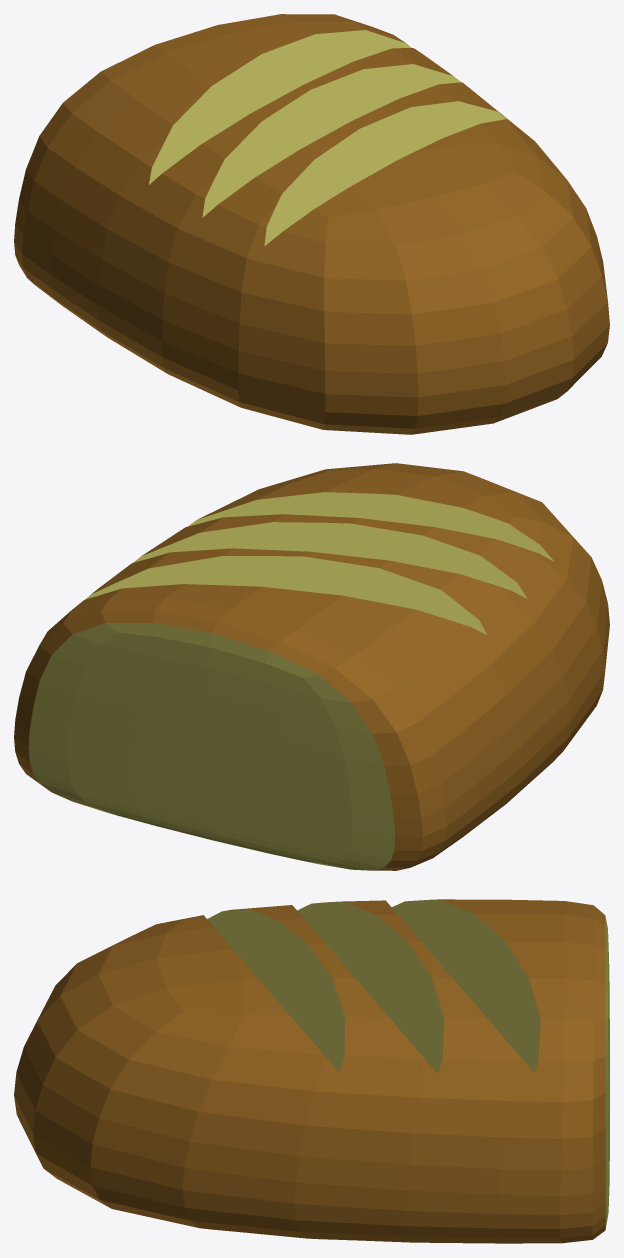
File: bread.fbx
The picture shows the model from 3 angles, top to bottom: view 1: azimuth 30°, elevation 25°; view 2: azimuth 150°, elevation 25°; view 3: azimuth 270°, elevation 25°; orthographic projection.
Visible parts, largest first — view 1: bread; view 2: bread; view 3: bread.
Boxes of the visible parts, x1,y1,x2,y2 form: bread: [14, 14, 609, 434]; bread: [14, 463, 609, 870]; bread: [14, 899, 609, 1243].
Bounding box in the file's own units: 117 × 57.35 × 141.
